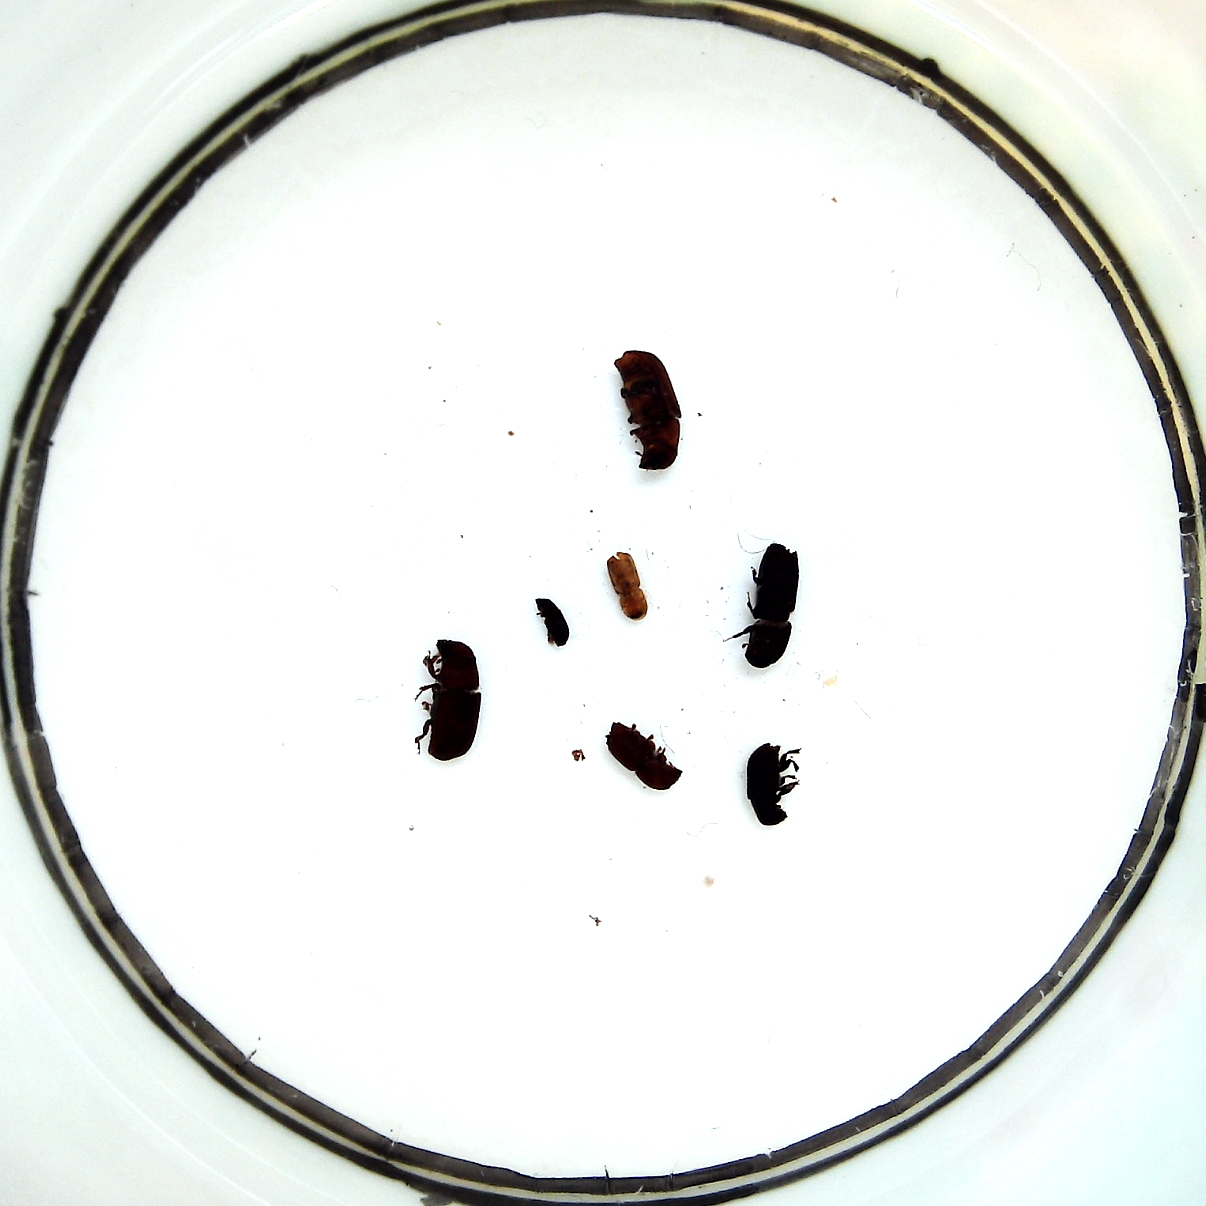Boerner: (744, 541, 800, 668)
Leconte: (614, 350, 683, 469), (429, 641, 482, 761)
acuminatus: (536, 597, 570, 646)
armandi: (747, 742, 789, 826)
coleoptera: (607, 552, 647, 620)
linnaeus: (604, 721, 683, 790)
